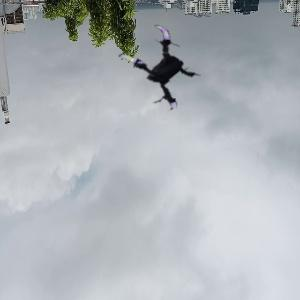drone: (116, 24, 212, 120)
